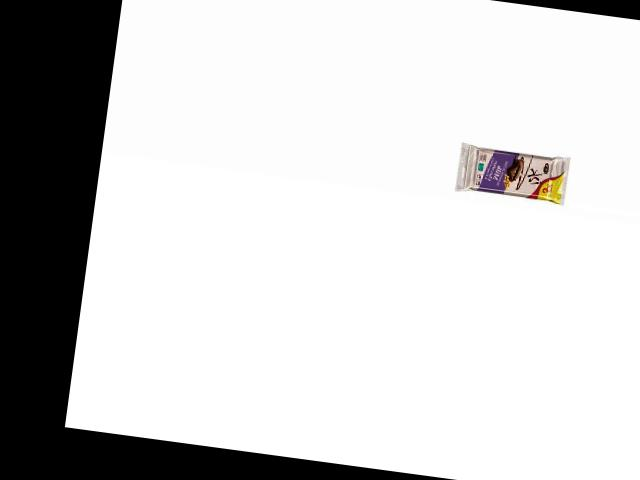chocolate: (453, 138, 574, 208)
